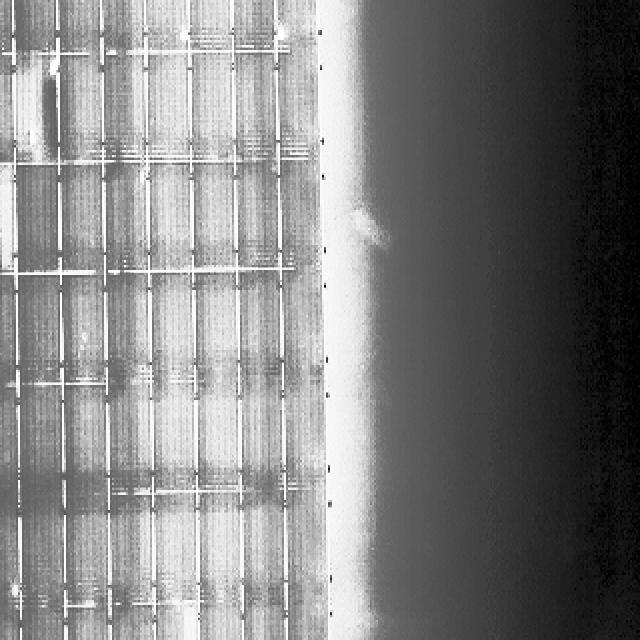Hotspots: (13, 134, 39, 160), (4, 582, 22, 604), (178, 22, 195, 45), (44, 57, 60, 80), (276, 30, 291, 50)
PV-modules: (148, 52, 200, 160), (100, 275, 149, 385), (197, 488, 243, 602), (20, 382, 66, 496), (54, 54, 103, 161), (154, 275, 201, 386), (20, 499, 67, 609), (282, 377, 328, 489), (190, 162, 236, 274), (61, 382, 107, 494), (242, 491, 288, 603), (15, 166, 62, 275), (151, 494, 197, 605), (278, 157, 324, 268), (193, 274, 239, 385), (146, 162, 192, 273), (284, 489, 328, 605), (150, 379, 195, 492), (280, 270, 325, 383), (241, 376, 285, 490), (110, 381, 154, 494), (18, 277, 64, 385), (58, 164, 103, 273), (240, 272, 284, 383), (196, 379, 240, 490), (238, 160, 283, 268), (59, 272, 104, 380), (109, 496, 153, 606), (106, 162, 150, 271), (235, 51, 280, 157), (189, 51, 233, 158), (63, 499, 107, 606), (17, 57, 60, 166), (104, 57, 148, 163), (277, 52, 320, 160), (148, 603, 245, 640), (67, 604, 146, 640), (54, 0, 100, 55), (12, 0, 58, 52), (184, 0, 230, 50), (232, 0, 278, 50), (102, 0, 146, 52), (0, 498, 20, 610), (142, 0, 186, 50), (0, 383, 18, 495), (274, 0, 316, 48), (282, 599, 327, 640), (243, 602, 291, 640), (154, 603, 202, 640), (0, 162, 16, 272), (108, 604, 156, 640), (199, 603, 244, 640), (62, 608, 112, 640), (22, 607, 67, 640), (0, 275, 12, 387), (0, 50, 10, 160), (0, 610, 18, 640), (0, 0, 6, 52)
